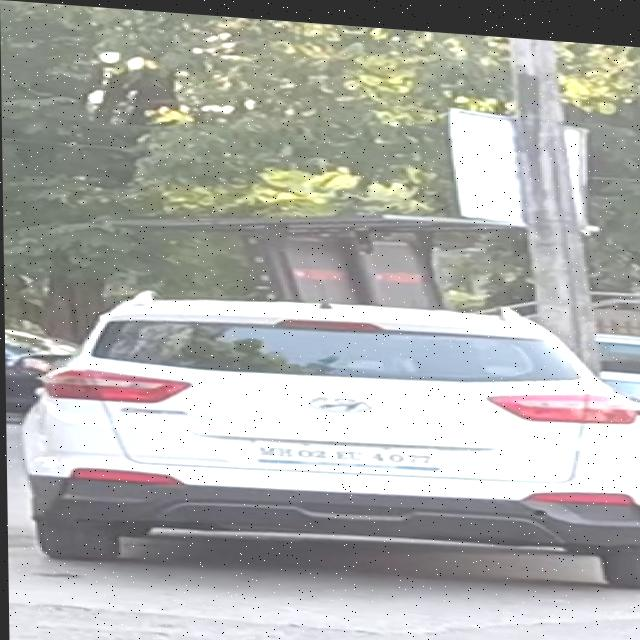plate: (246, 431, 443, 467)
